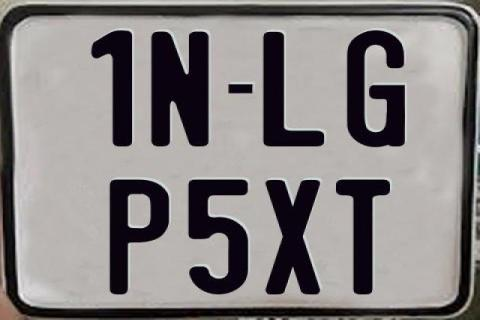0: (188, 178, 250, 298), (90, 29, 131, 149)
G: (346, 29, 404, 150)
L: (262, 31, 329, 149)
N: (150, 31, 214, 151)
P: (108, 179, 169, 299)
T: (334, 177, 391, 293)
X: (262, 179, 323, 295)
